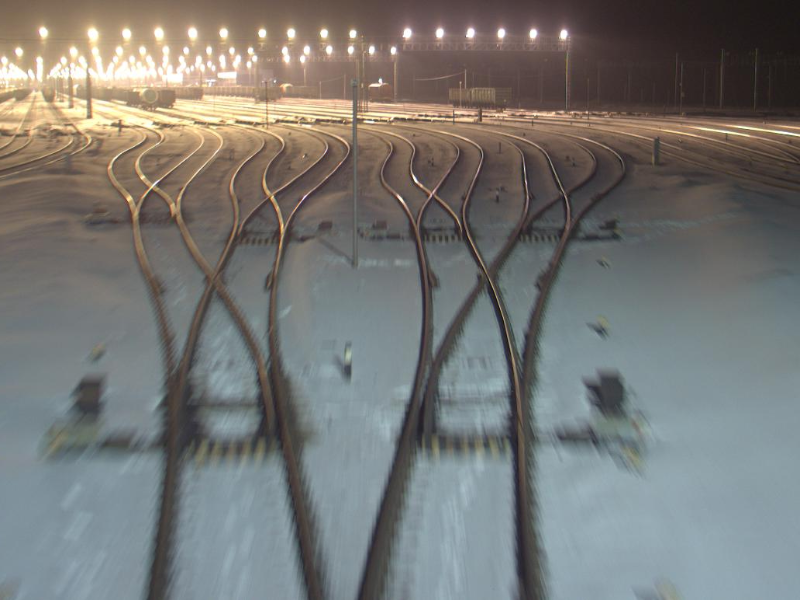left: (404, 373, 535, 450), (516, 213, 571, 246), (229, 217, 291, 245)
right: (165, 363, 295, 440), (408, 215, 475, 242), (127, 199, 188, 224)
